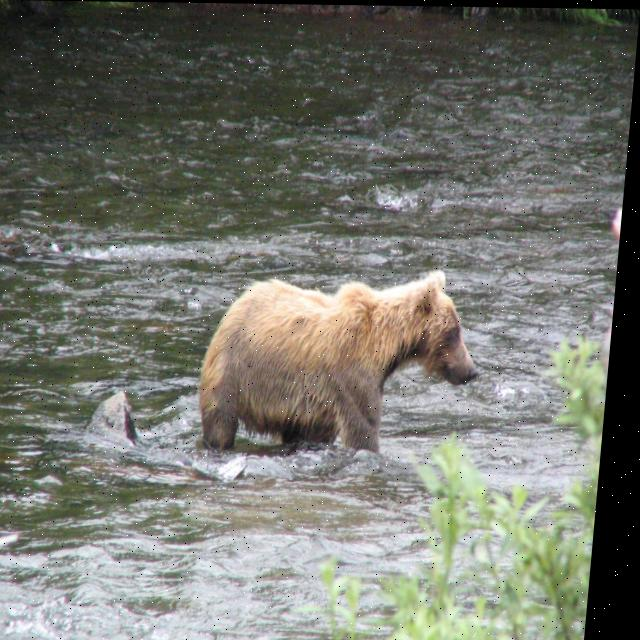bear face: (204, 263, 497, 454)
